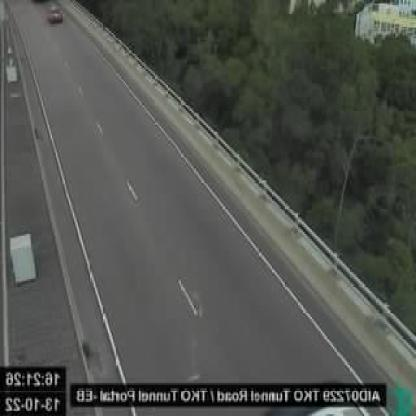Car: (45, 4, 64, 24)
